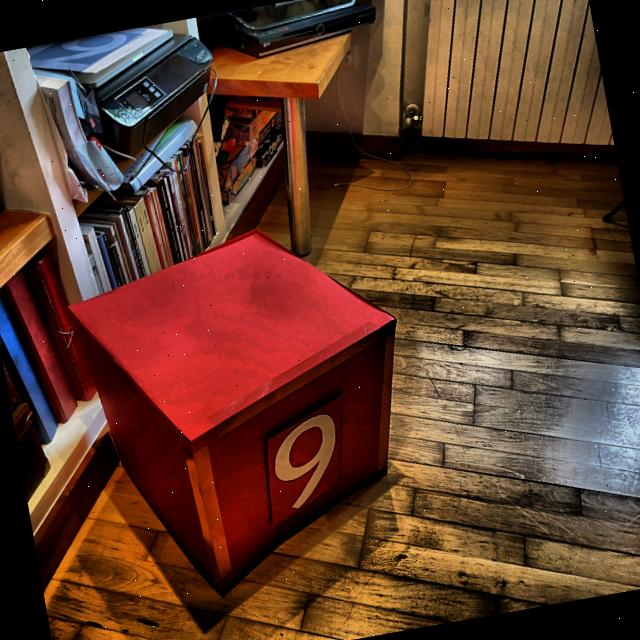nine: (268, 414, 348, 516)
red box: (60, 208, 438, 618)
